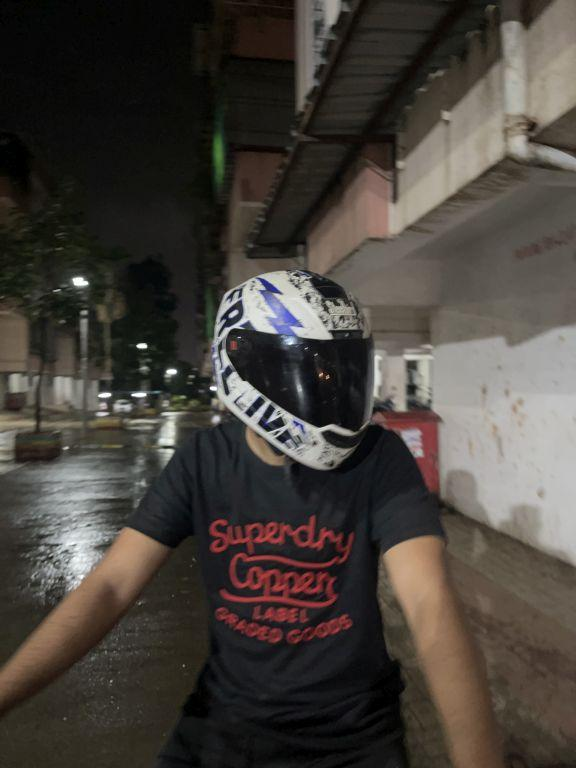helmet: (205, 259, 386, 490)
